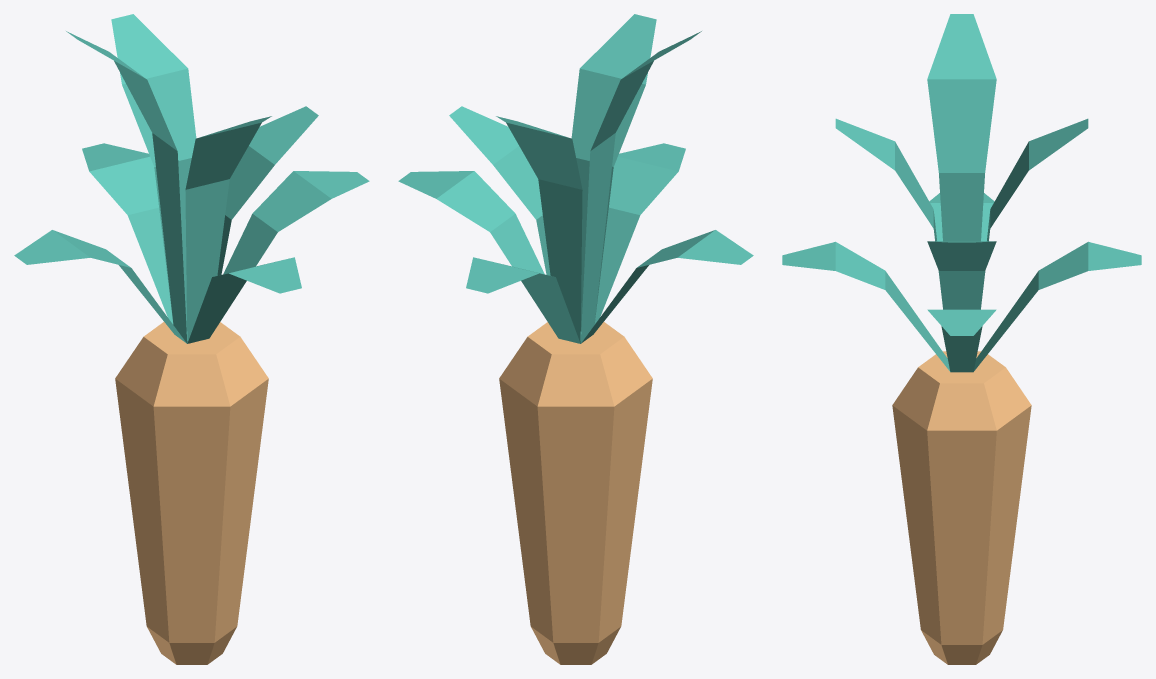
Rendered from carrot.glb.
3 views of the same model, side by side, from view 1: azimuth 30°, elevation 25°; view 2: azimuth 150°, elevation 25°; view 3: azimuth 270°, elevation 25° (orthographic). The views are drawn at different scales.
Visible parts, largest first — view 1: crop_carrot; view 2: crop_carrot; view 3: crop_carrot.
Boxes of the visible parts, x1,y1,x2,y2 form: crop_carrot: (14,14,369,664); crop_carrot: (398,14,753,664); crop_carrot: (782,14,1141,664).
Size of the model in its own units: 0.554 by 1 by 0.554.
